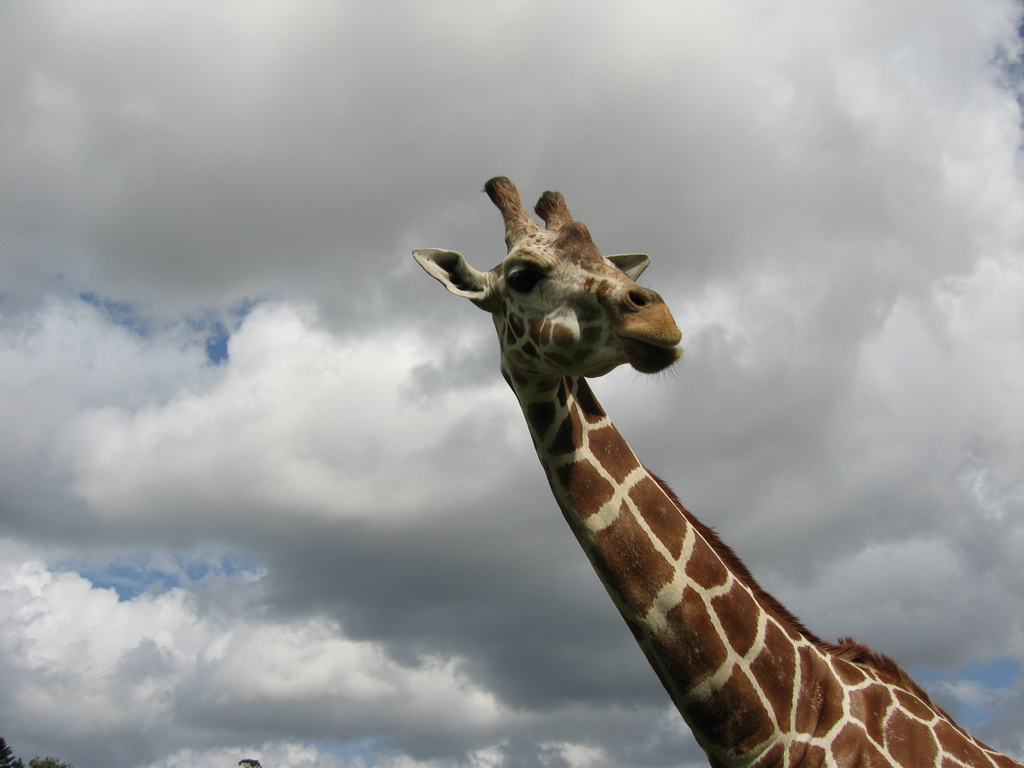giraffe: (418, 171, 968, 750)
